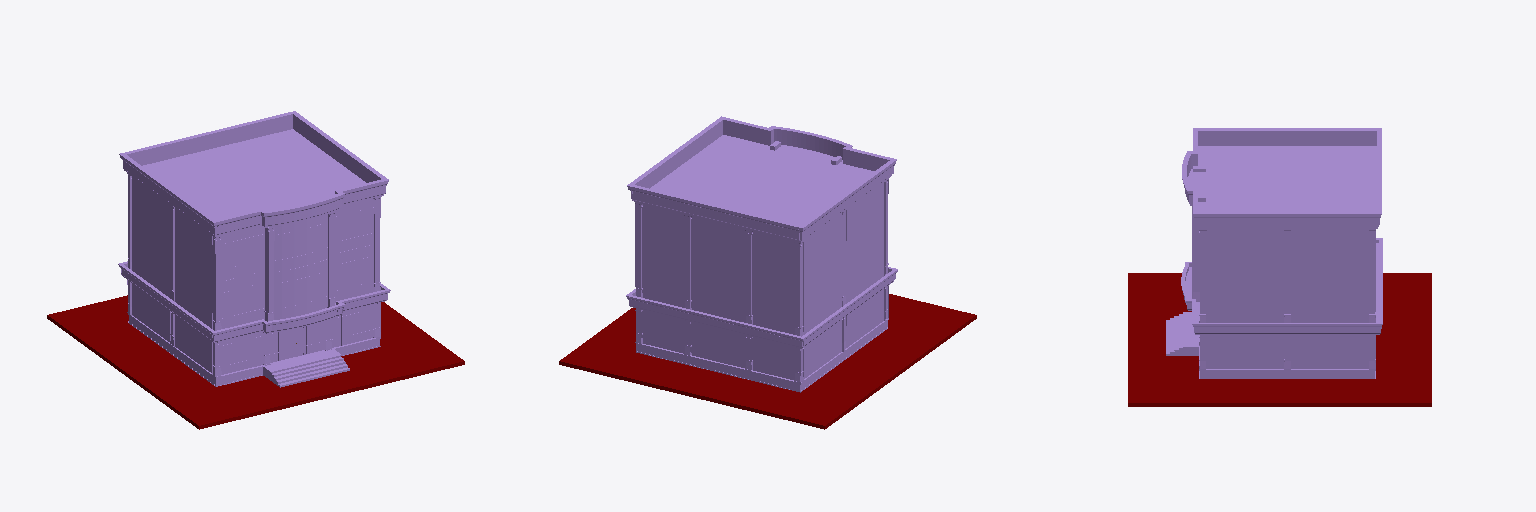
File: Building_1__corona.obj
3 views of the same model, side by side, from view 1: azimuth 30°, elevation 25°; view 2: azimuth 150°, elevation 25°; view 3: azimuth 270°, elevation 25° (orthographic).
Visible parts, largest first — view 1: Building_1_008, Building_1_011, Building_1_003, Building_1_002, Building_1_001, Building_1_004, Building_1_006, Building_1_005; view 2: Building_1_001, Building_1_008, Building_1_011, Building_1_003, Building_1_006; view 3: Building_1_001, Building_1_011, Building_1_008, Building_1_003, Building_1_006.
Part boxes in pixels (bbox=[...]): Building_1_008: bbox=[118, 111, 390, 377]; Building_1_011: bbox=[47, 295, 464, 429]; Building_1_003: bbox=[129, 129, 380, 387]; Building_1_002: bbox=[222, 210, 373, 365]; Building_1_001: bbox=[132, 177, 212, 372]; Building_1_004: bbox=[221, 198, 373, 374]; Building_1_006: bbox=[128, 314, 380, 386]; Building_1_005: bbox=[221, 201, 373, 369]; Building_1_001: bbox=[642, 141, 883, 380]; Building_1_008: bbox=[626, 116, 897, 382]; Building_1_011: bbox=[559, 294, 976, 429]; Building_1_003: bbox=[636, 135, 887, 390]; Building_1_006: bbox=[636, 319, 888, 392]; Building_1_001: bbox=[1193, 166, 1368, 368]; Building_1_011: bbox=[1128, 273, 1431, 406]; Building_1_008: bbox=[1181, 128, 1382, 369]; Building_1_003: bbox=[1166, 146, 1378, 377]; Building_1_006: bbox=[1166, 312, 1375, 378].
Bounding box in the file's own units: 21723 × 13399 × 21462.